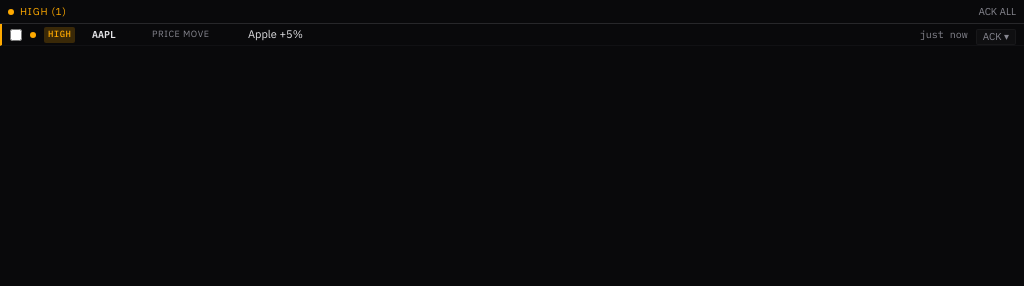
Test: Alert snooze (PLAN-0051 T-D-4-03) › renders snooze 15m / 1h / EOD / 24h / custom options in the dropdown
Expected: the text "AAPL" is shown, [92, 28, 116, 40]
# Open the ACK dropdown by clicking the trigger button.
Click the button with aria-label "Acknowledge or snooze".
click(996, 37)  # box [976, 29, 1016, 45]
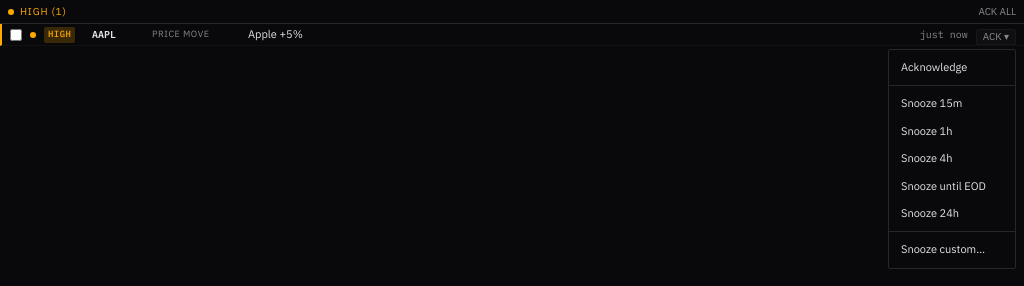
Now the menu item "Snooze 15m" is shown, box [901, 96, 962, 110]
Now the menu item "Snooze 1h" is shown, box [901, 124, 952, 138]
Now the menu item "Snooze until EOD" is shown, box [901, 179, 986, 193]
